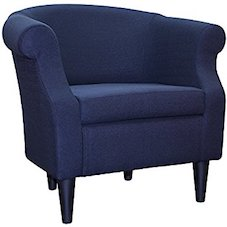chair: (0, 4, 226, 217)
